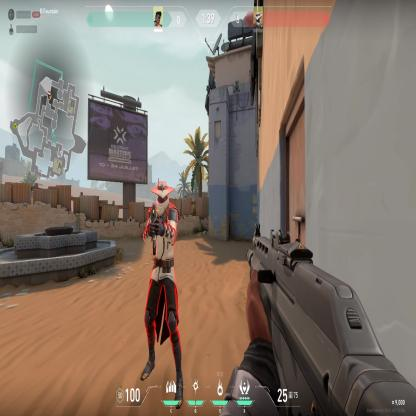enemy: (139, 177, 186, 408)
